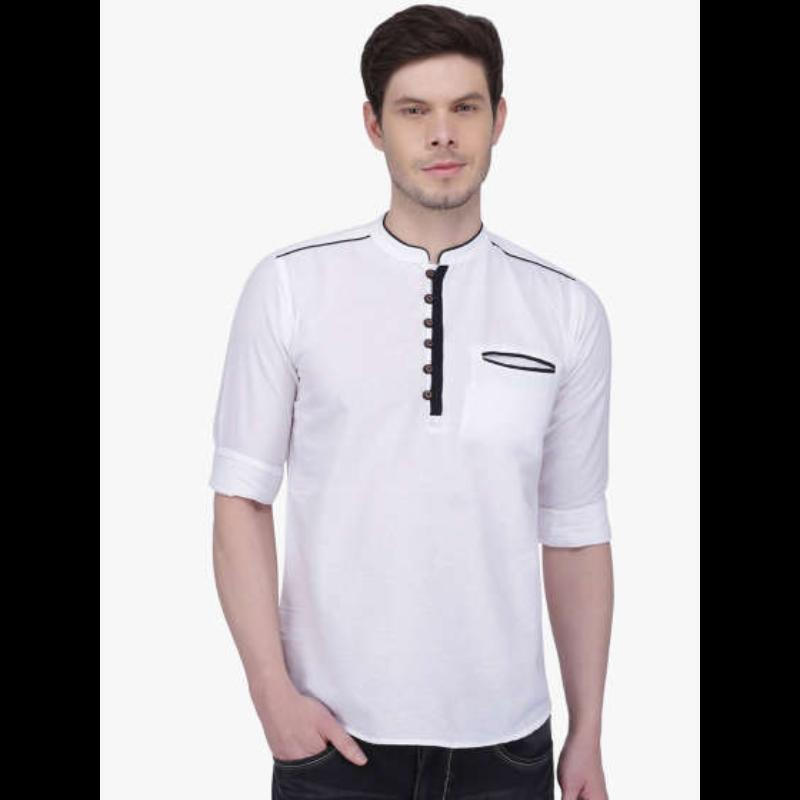Jeans: (261, 742, 550, 800)
Shirt: (202, 229, 656, 743)
